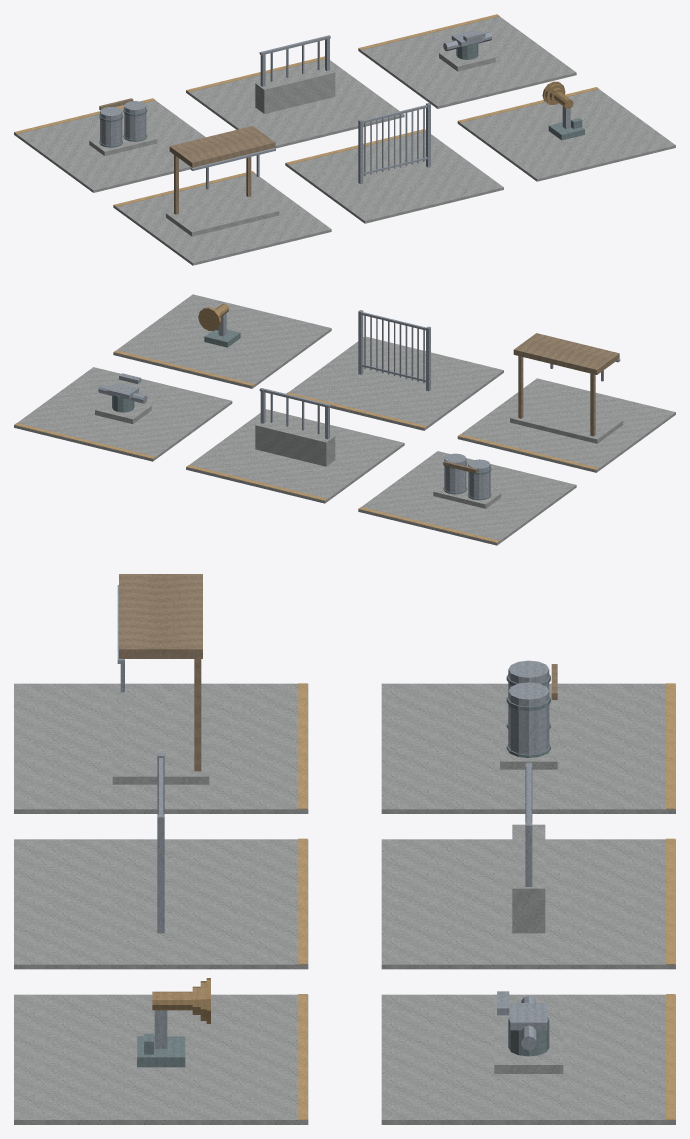
Rendered from level_blockout_kit_wld_14_p03.glb.
The picture shows the model from 3 angles, top to bottom: view 1: azimuth 30°, elevation 25°; view 2: azimuth 150°, elevation 25°; view 3: azimuth 270°, elevation 25°; orthographic projection. The views are drawn at different scales.
Parts seen in each view (by area): view 1: level_blockout_kit_wld_14_p03; view 2: level_blockout_kit_wld_14_p03; view 3: level_blockout_kit_wld_14_p03.
Boxes of the visible parts, bbox=[...] form: level_blockout_kit_wld_14_p03: bbox=[14, 14, 675, 265]; level_blockout_kit_wld_14_p03: bbox=[14, 294, 675, 545]; level_blockout_kit_wld_14_p03: bbox=[14, 574, 675, 1124].
Size of the model in its own units: 19.65 by 2.93 by 12.6.
Materials: 6 (6 with a texture image).
